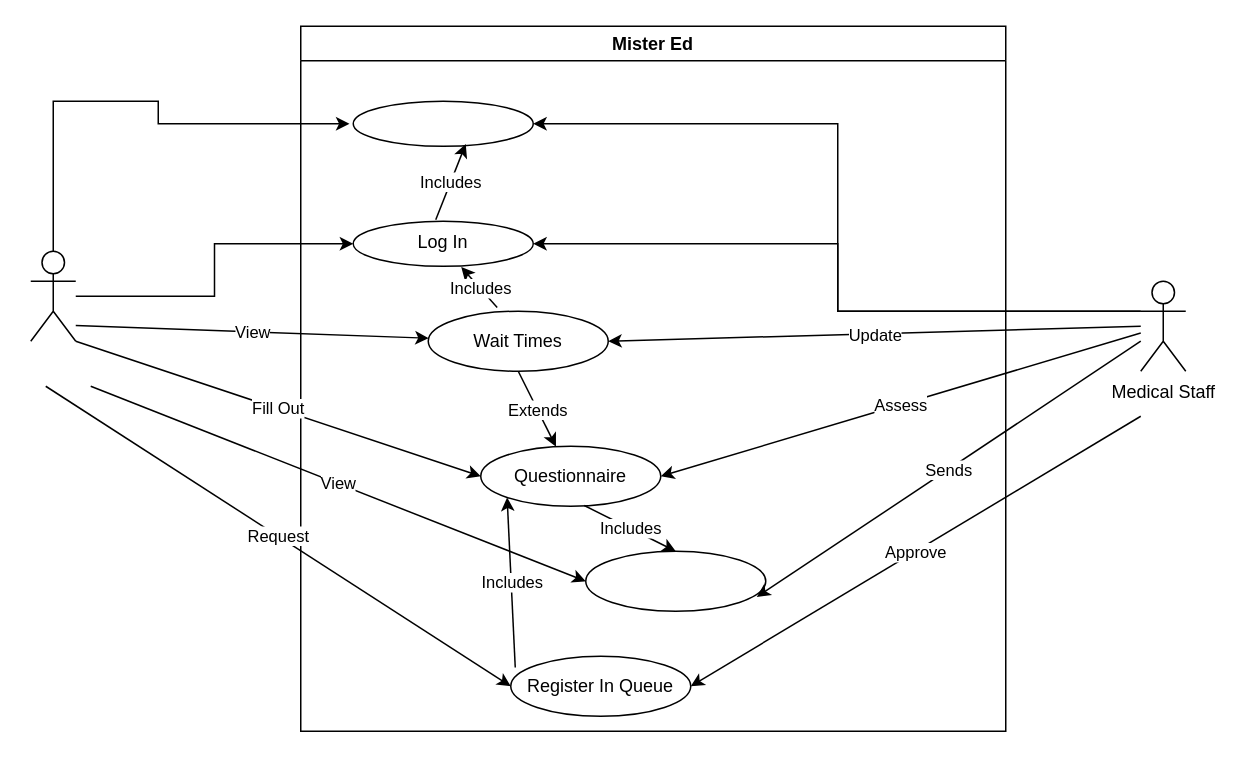
Some shapes in this 1241 by 758 pixel diagram are drawn without their labels. Here are the shapes that lost their labels. From the top down, the box of each, then its label:
(352, 100, 533, 146): System Registration
(29, 250, 76, 341): Patient
(584, 550, 766, 611): Notification
